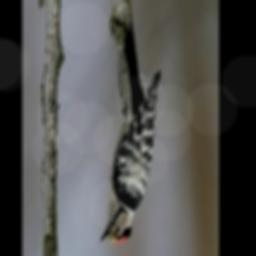Woodpecker: (100, 25, 161, 246)
